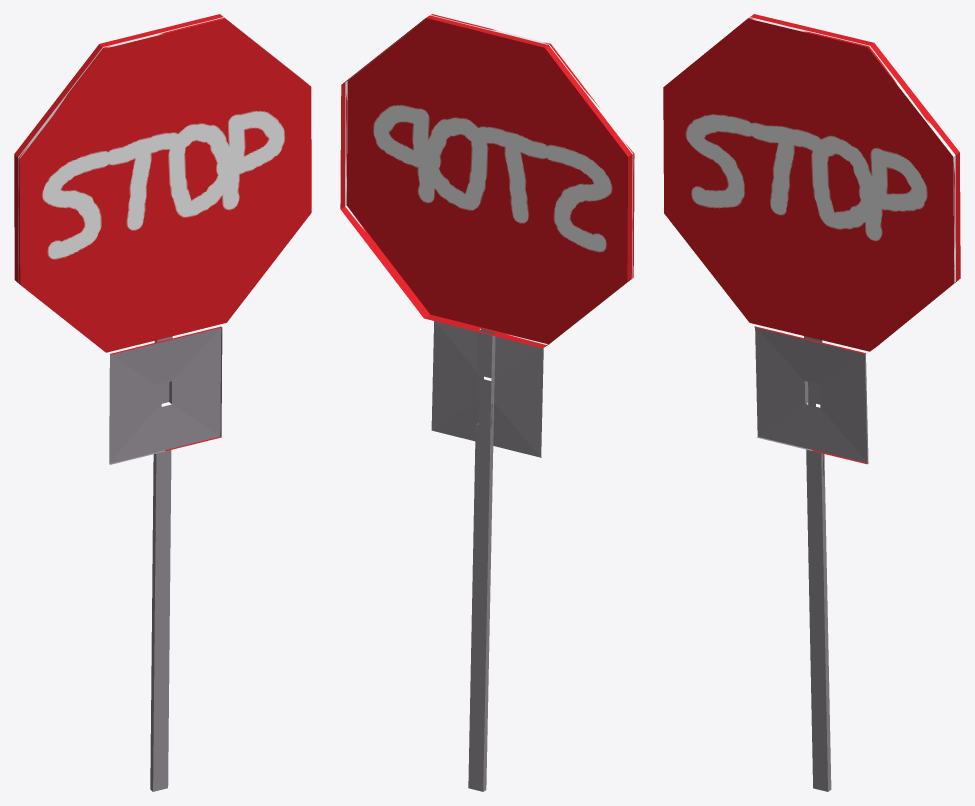
The model's file is stopsign.fbx.
The picture shows the model from 3 angles, left to right: view 1: azimuth 30°, elevation 25°; view 2: azimuth 150°, elevation 25°; view 3: azimuth 330°, elevation 25°; orthographic projection.
Parts seen in each view (by area): view 1: StopSign, StopSignFront; view 2: StopSign, StopSignFront, StopSignBody; view 3: StopSign, StopSignFront, StopSignBody.
Boxes of the visible parts, x1,y1,x2,y2 form: StopSign: (14, 14, 311, 450); StopSignFront: (109, 327, 222, 791); StopSign: (340, 14, 634, 348); StopSignFront: (431, 321, 543, 791); StopSignBody: (468, 328, 541, 791); StopSign: (663, 14, 960, 464); StopSignFront: (755, 327, 868, 791); StopSignBody: (757, 336, 831, 791).
Size of the model in its own units: 185 by 464 by 13.
